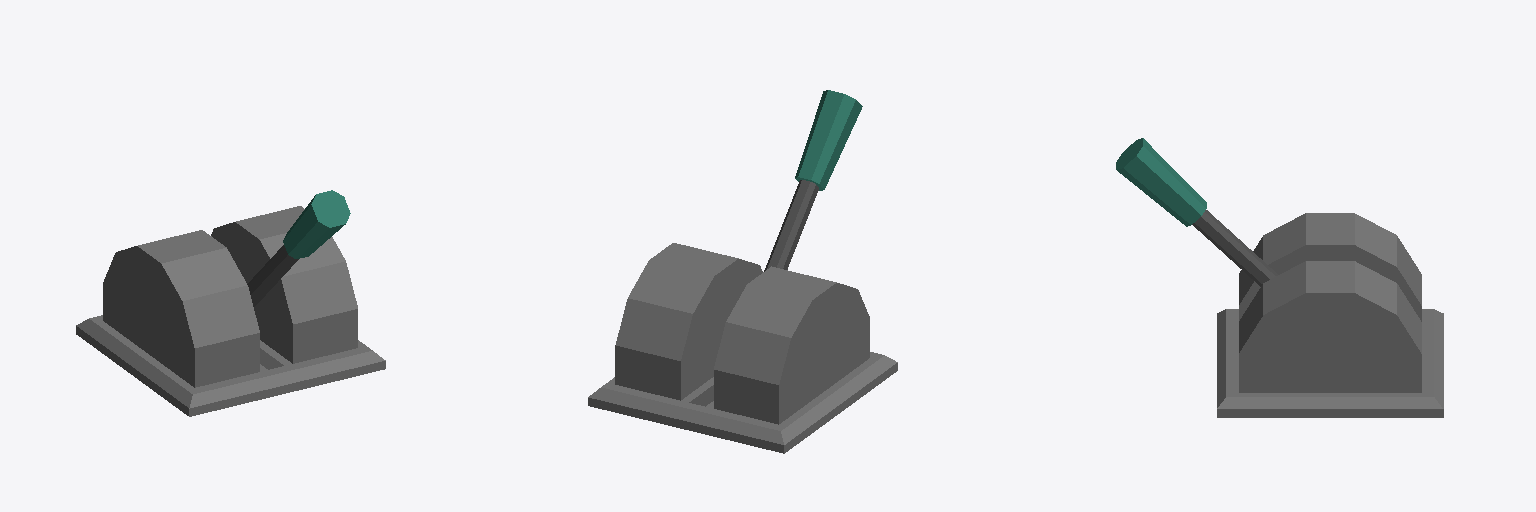
File: Lever_Floor.obj
3 views of the same model, side by side, from view 1: azimuth 30°, elevation 25°; view 2: azimuth 150°, elevation 25°; view 3: azimuth 270°, elevation 25° (orthographic).
Visible parts, largest first — view 1: object1, object2; view 2: object1, object2; view 3: object1, object2.
Part boxes in pixels (x1,y1,x2,y2): object1: (76,206,385,416); object2: (247,190,350,306); object1: (588,243,897,453); object2: (764,90,862,271); object1: (1217,213,1443,417); object2: (1116,138,1277,286).
Size of the model in its own units: 0.4 by 0.4438 by 0.5771.